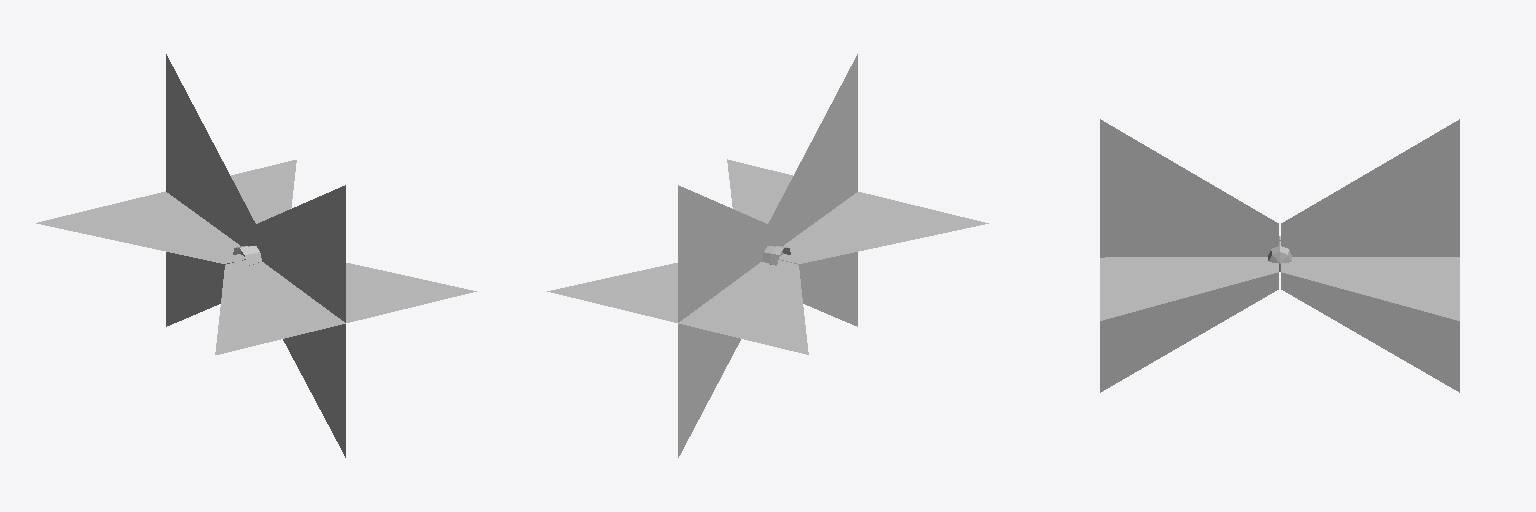
The model's file is stg400_MotRotlightA_w4_23.obj.
3 views of the same model, side by side, from view 1: azimuth 30°, elevation 25°; view 2: azimuth 150°, elevation 25°; view 3: azimuth 270°, elevation 25° (orthographic).
Visible parts, largest first — view 1: polygon4; view 2: polygon4; view 3: polygon4.
Boxes of the visible parts, box(x1,y1,x2,y2) form: polygon4: box(36, 54, 476, 457); polygon4: box(547, 54, 988, 457); polygon4: box(1100, 119, 1459, 392).
Bounding box in the file's own units: 91.26 × 91.26 × 109.